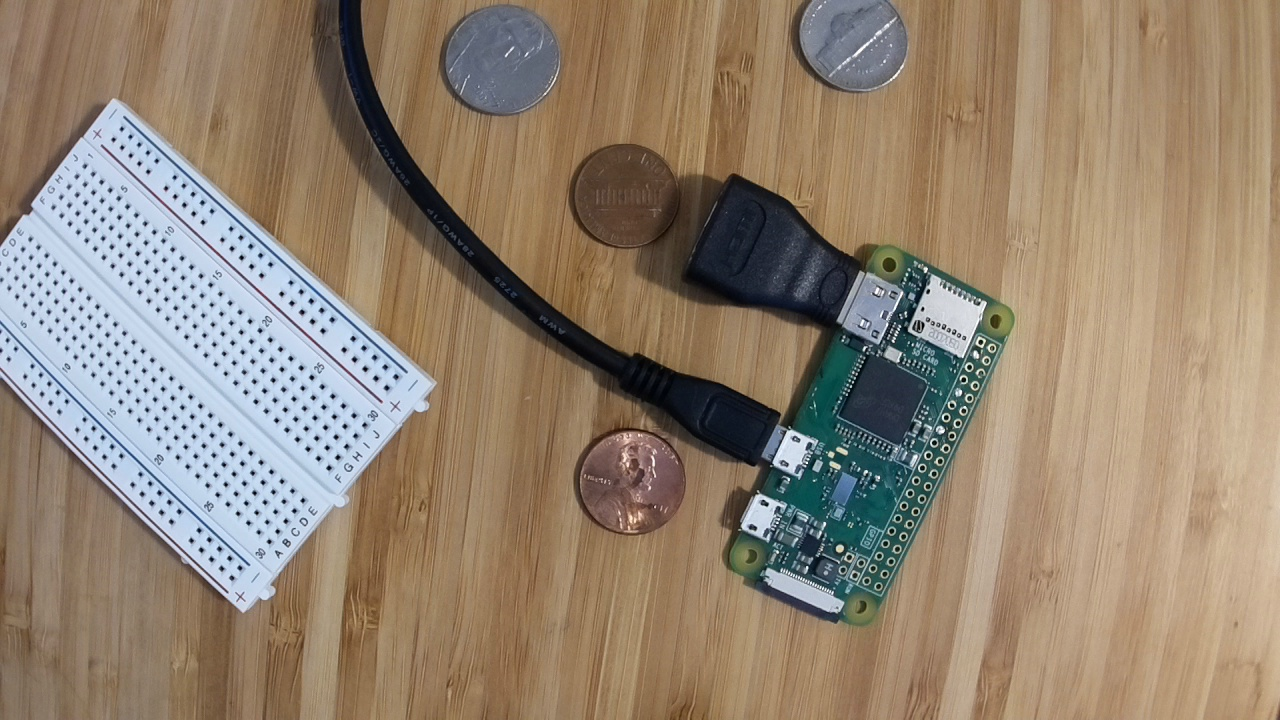nickel: (440, 1, 564, 116), (792, 1, 914, 96)
penny: (572, 427, 688, 537), (569, 141, 681, 251)
